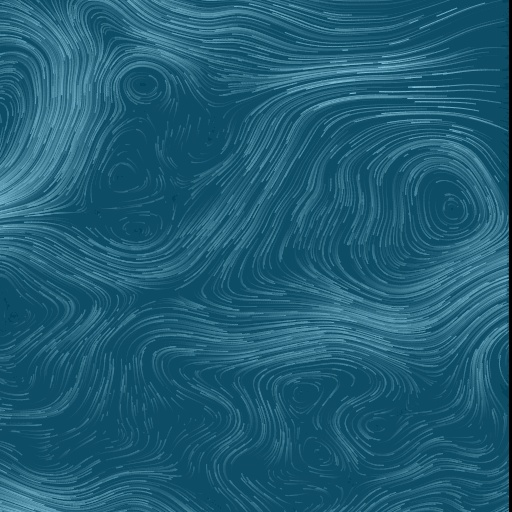eddy: (394, 151, 499, 253), (118, 62, 174, 109), (276, 375, 329, 418), (295, 433, 342, 476), (109, 209, 163, 245), (102, 157, 147, 199), (361, 412, 396, 439)
